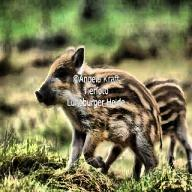boar: (35, 45, 163, 179)
